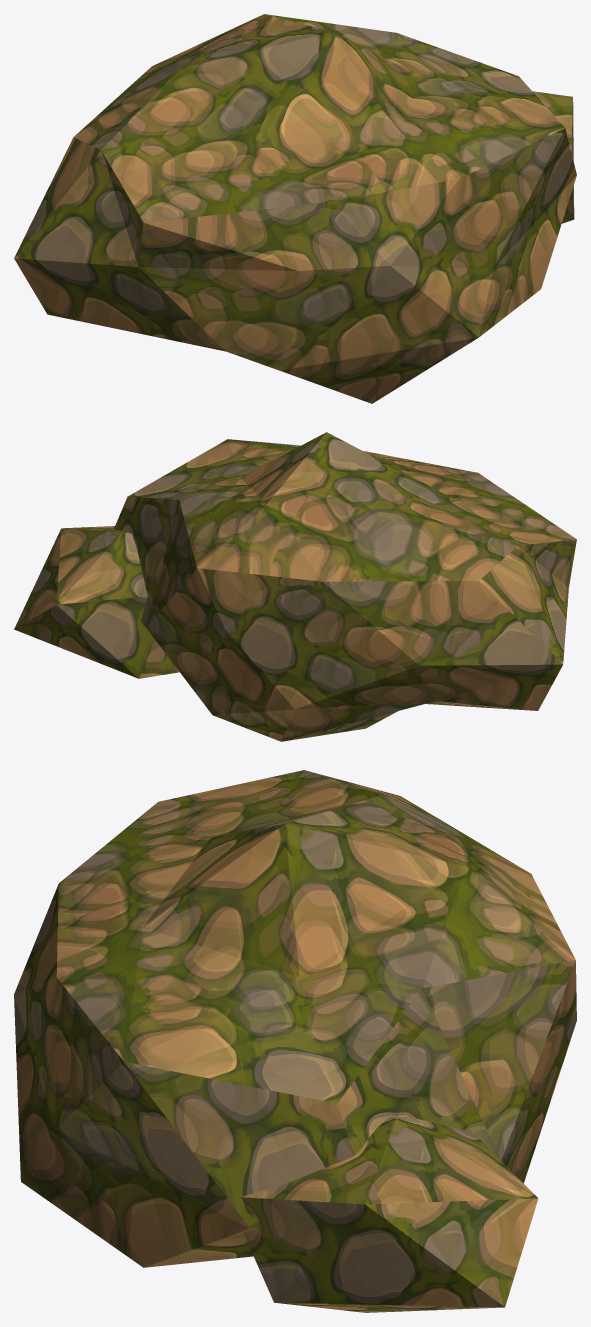
File: rock.glb
3 views of the same model, one above another, from view 1: azimuth 30°, elevation 25°; view 2: azimuth 150°, elevation 25°; view 3: azimuth 270°, elevation 25° (orthographic). The views are drawn at different scales.
Visible parts, largest first — view 1: rock; view 2: rock; view 3: rock.
Part boxes in pixels (bbox=[...]): rock: bbox=[14, 14, 576, 403]; rock: bbox=[14, 432, 576, 741]; rock: bbox=[14, 770, 576, 1312].
Bounding box in the file's own units: 2.56 × 1.39 × 1.65.
Materials: 2 (2 with a texture image).
